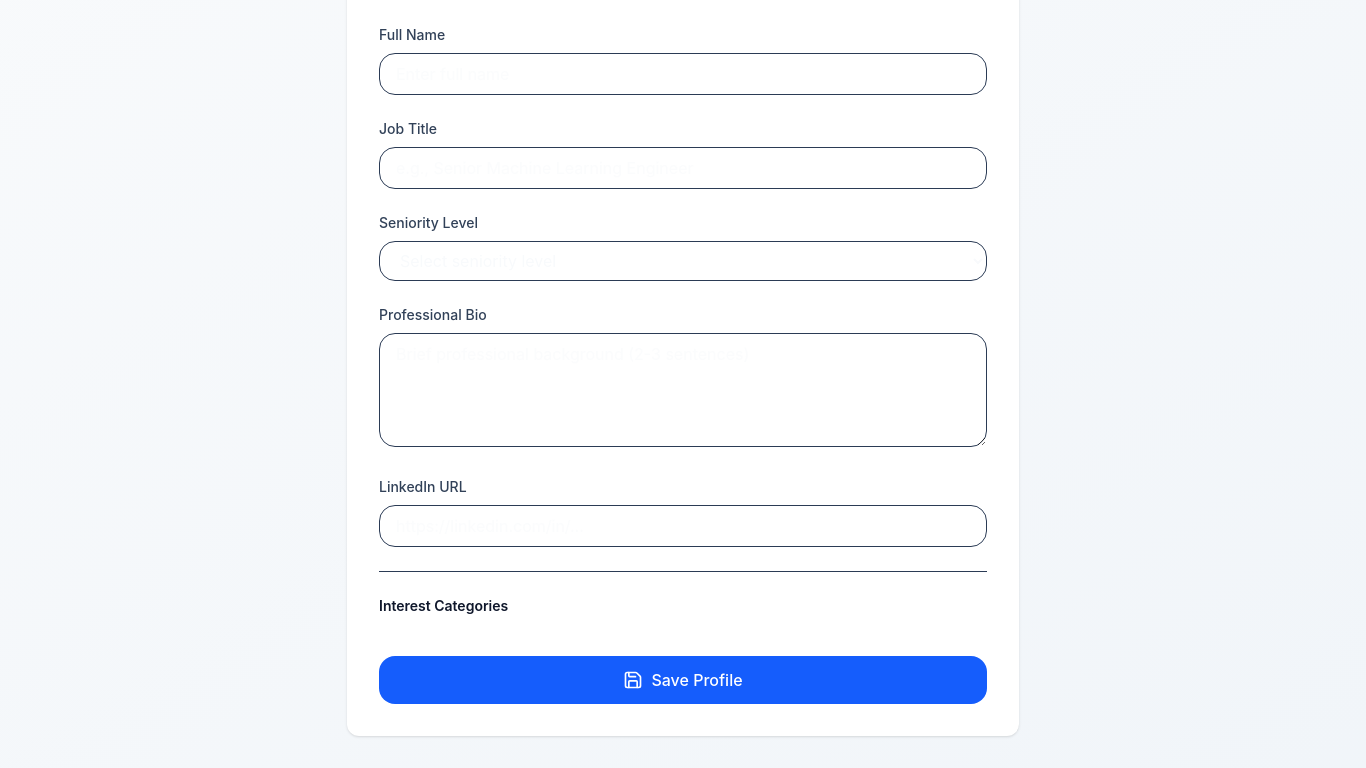
Test: User Profile Page › displays error message on save failure
(page scrolled)
Click the button "Save Profile" at (683,680), box [379,656,987,704]
(page scrolled)
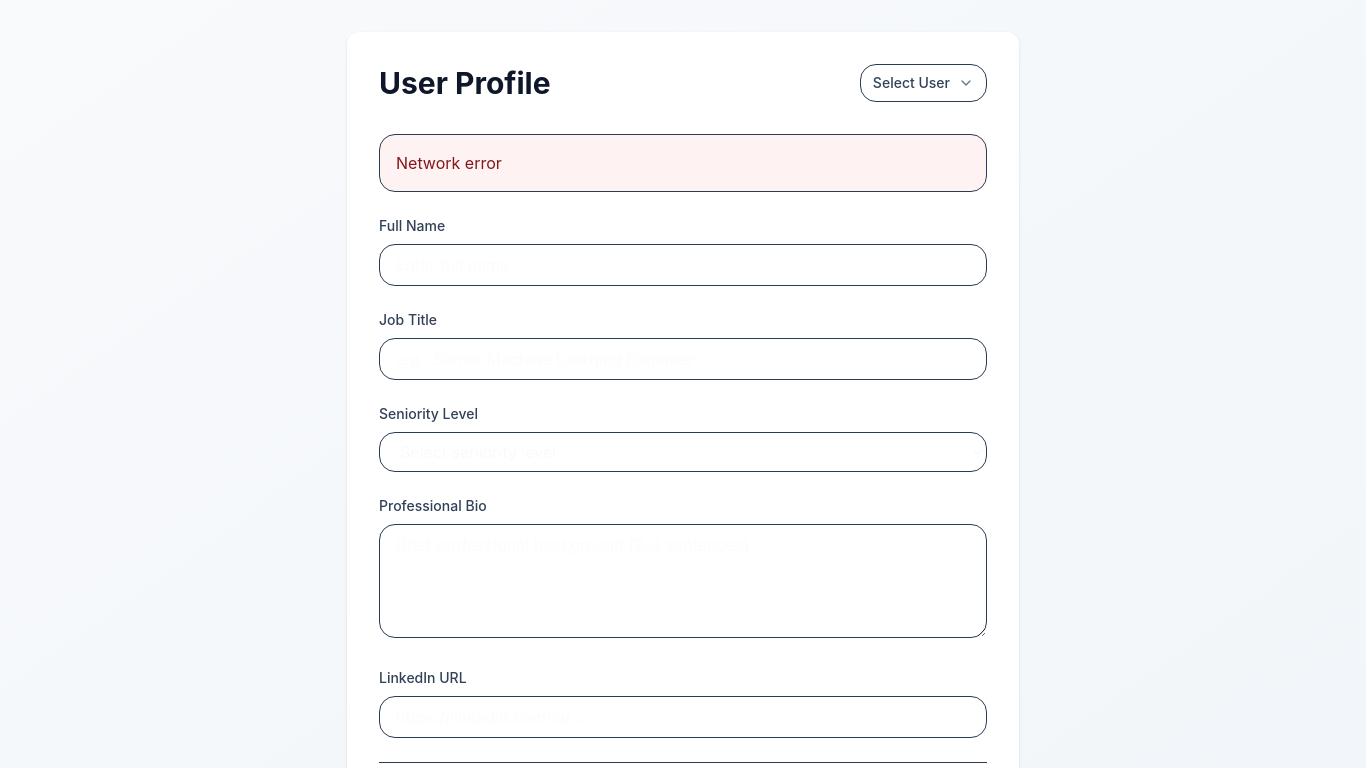
Check: the text "Network error" is shown, box [396,153,502,173]
